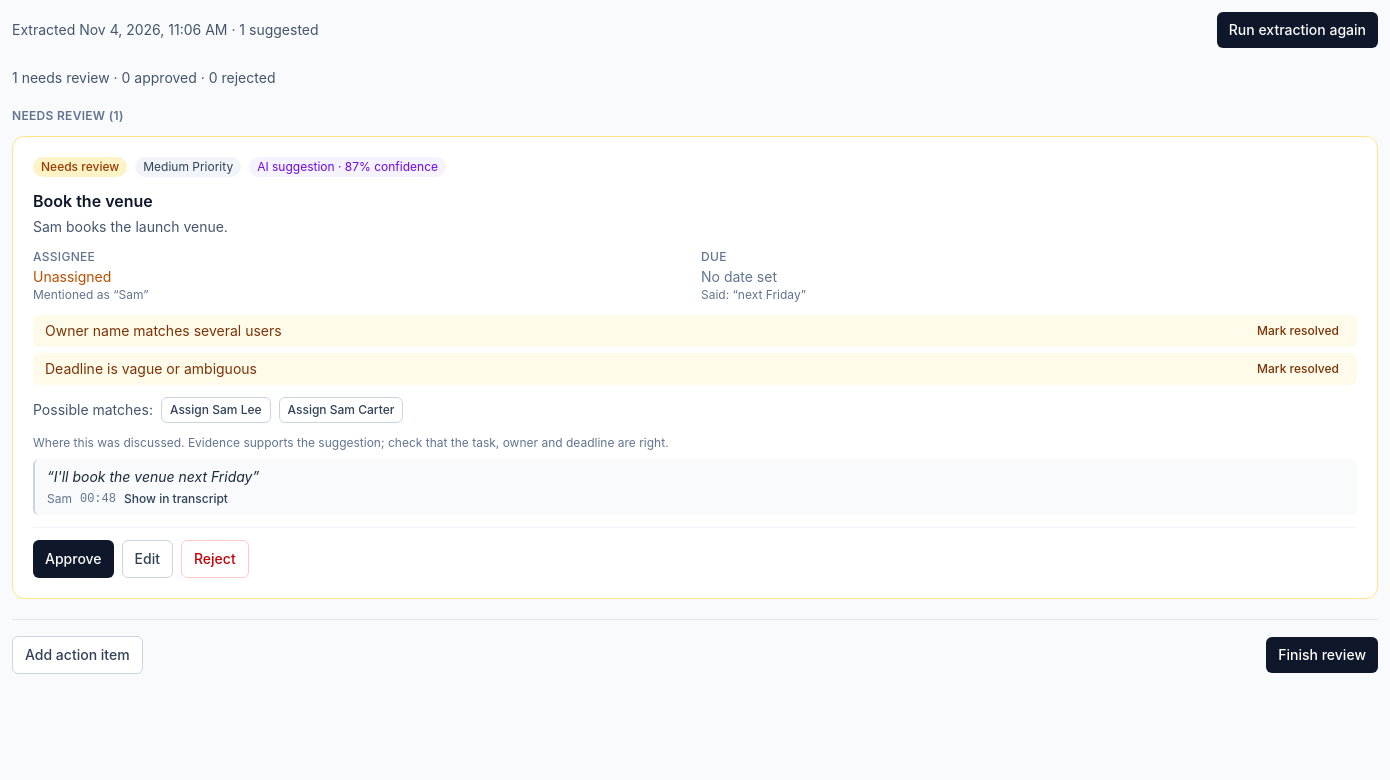
reviewing items › edits an item and sends only the changed fields
Step 1. Click the button "Edit" → (147, 559), box [122, 540, 173, 578]
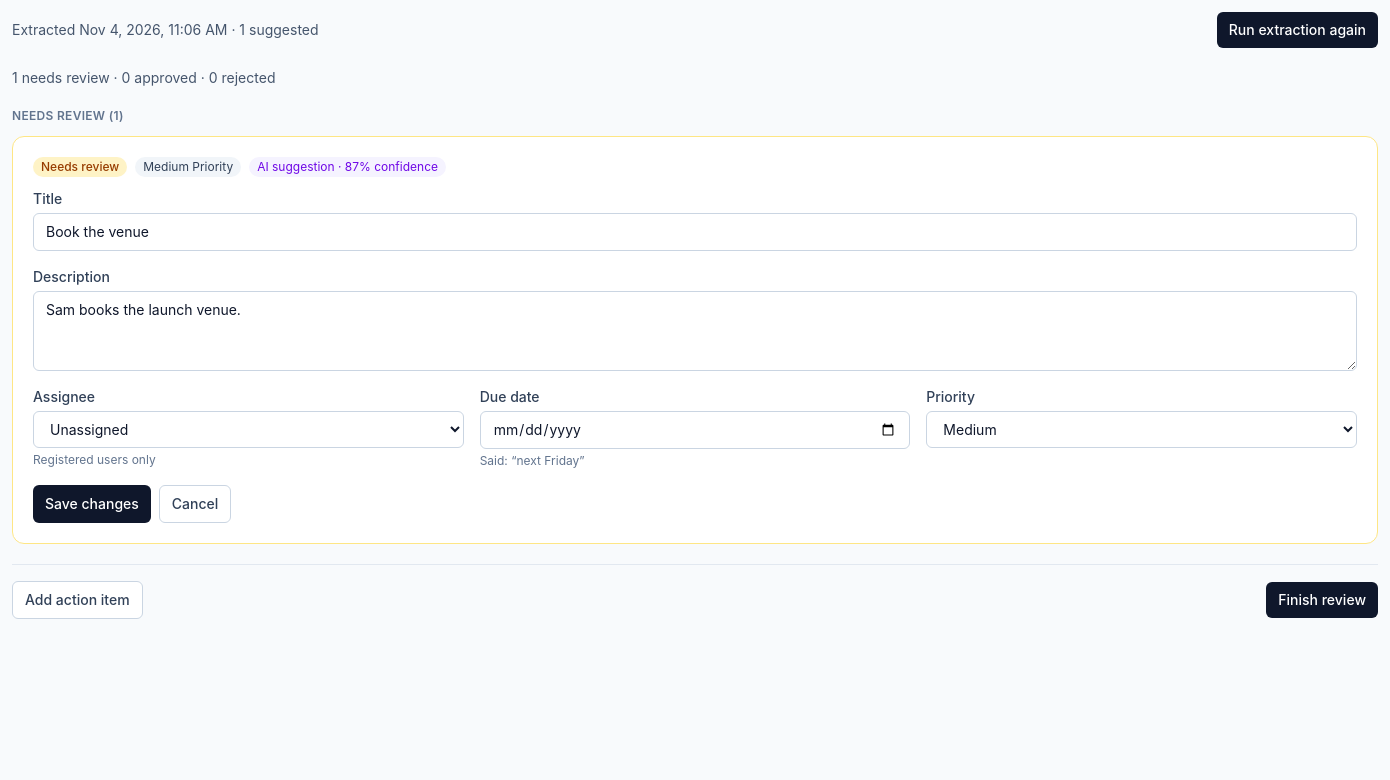
Step 2. Replace the text in the field labelled "Title" with "Book the launch venue" → (695, 232), box [33, 213, 1357, 251]
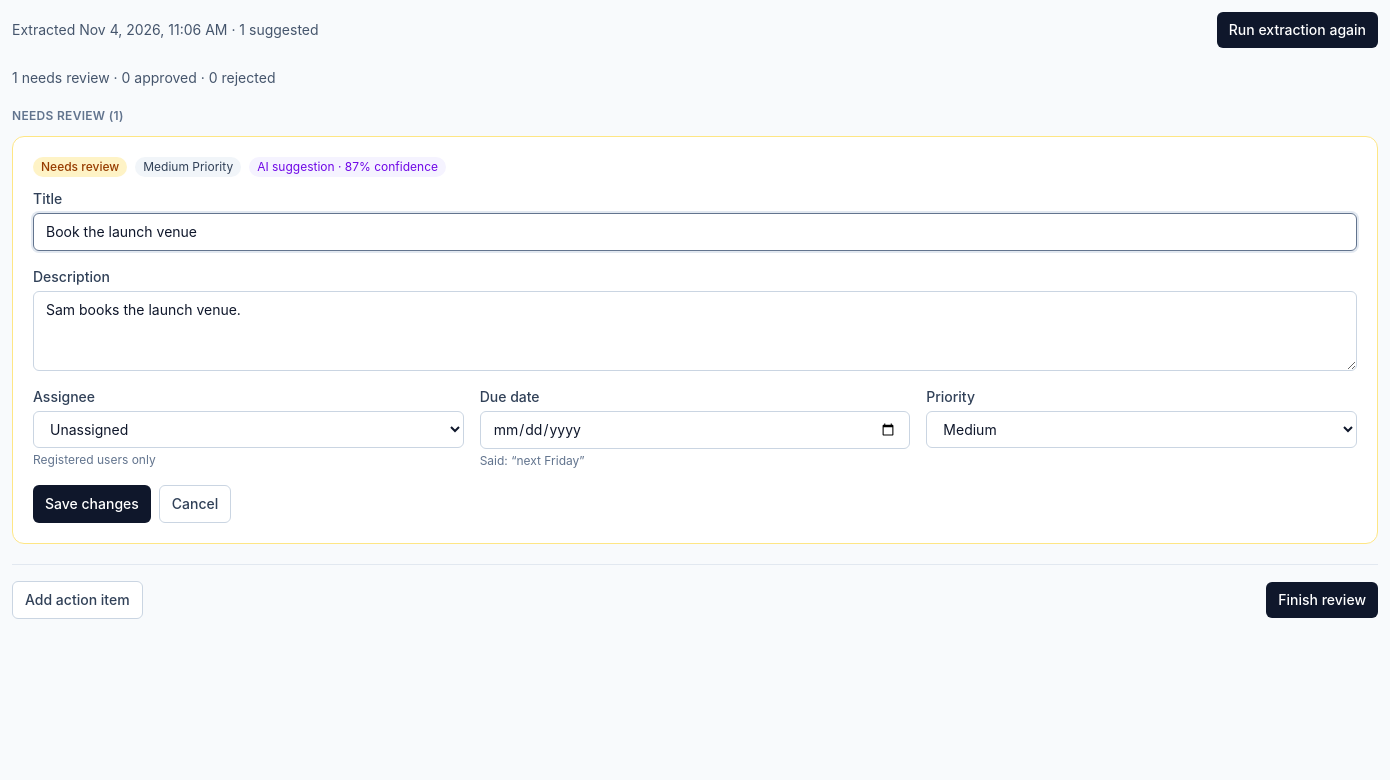
Step 3. Select "High" in the dropdown labelled "Priority" → (1142, 430), box [926, 411, 1357, 448]
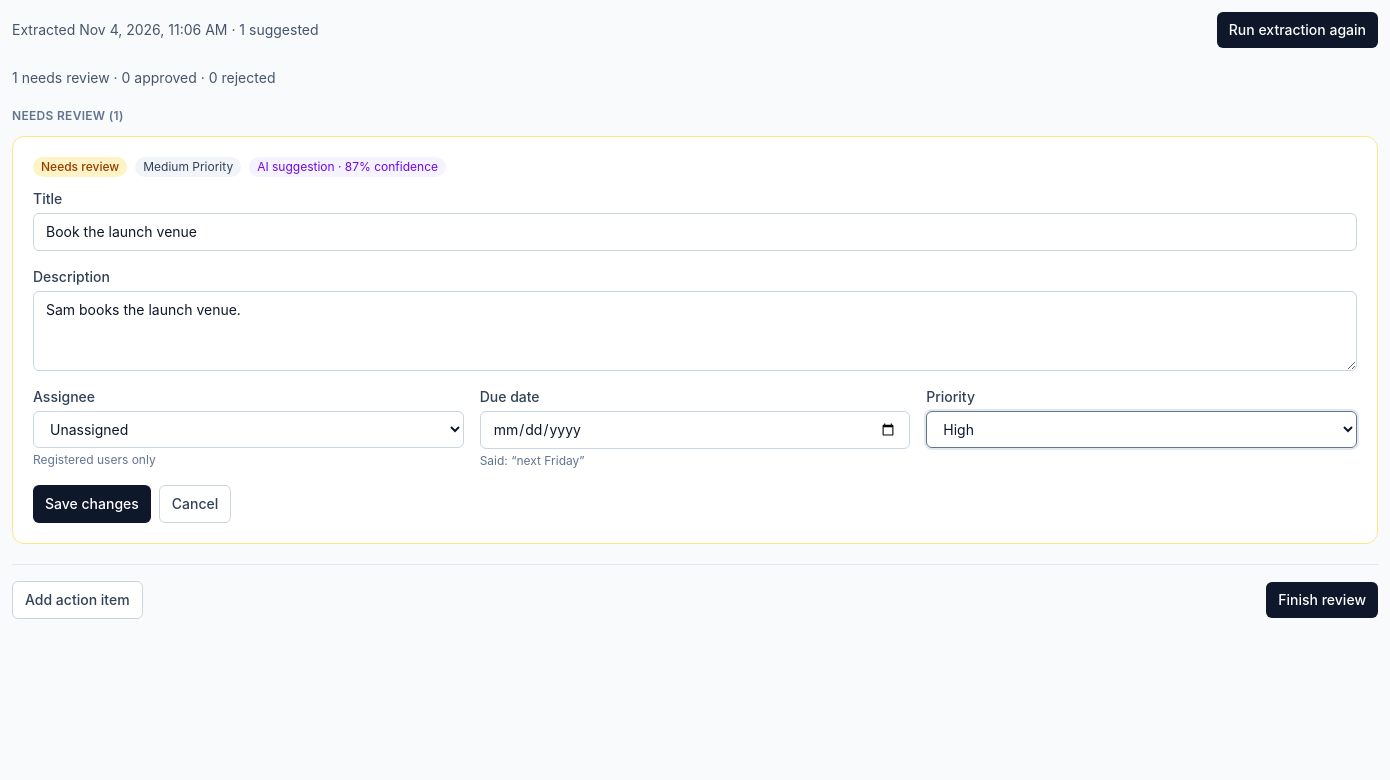
Step 4. Click the button "Save changes" → (92, 504), box [33, 485, 151, 523]
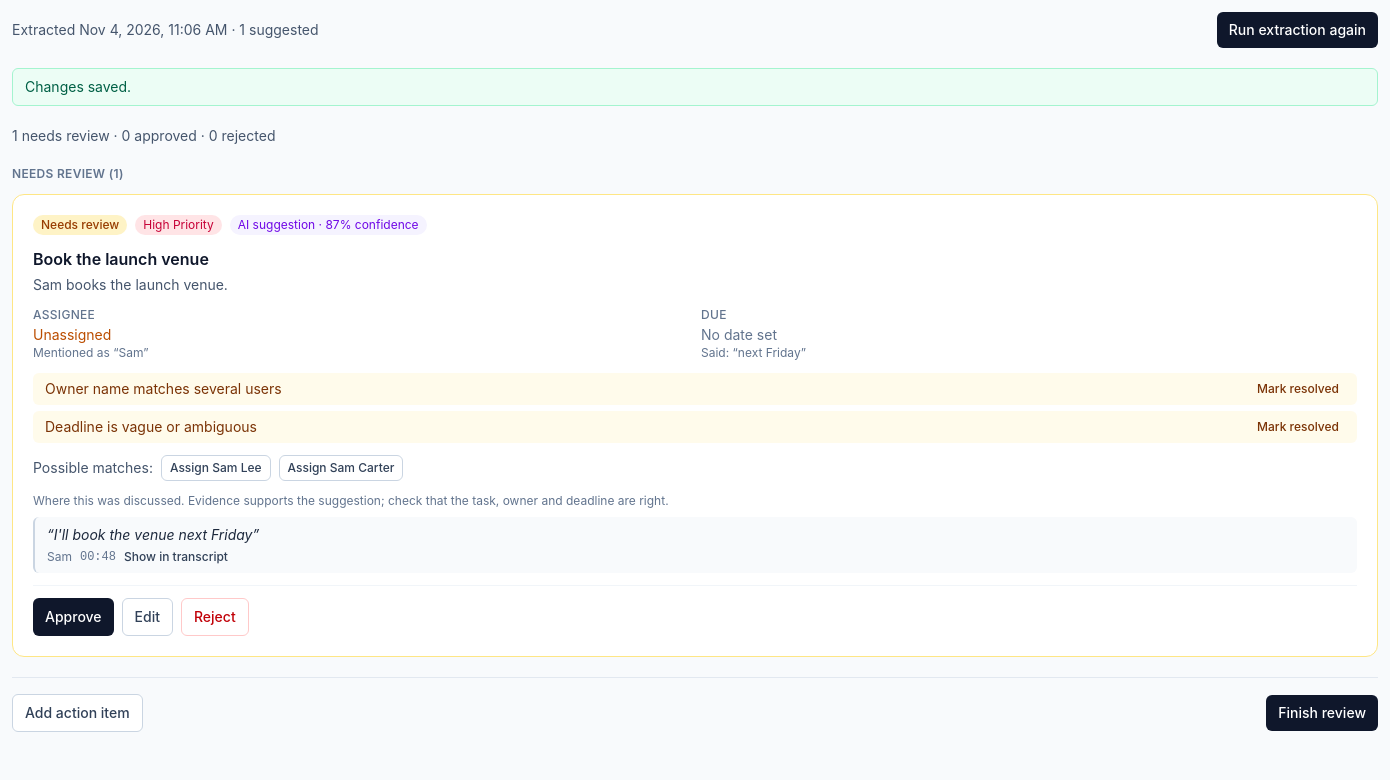
Result: the element "Book the launch venue" is shown at [12, 194, 1378, 657]
Result: the text "Changes saved." is shown at [12, 68, 1378, 106]
